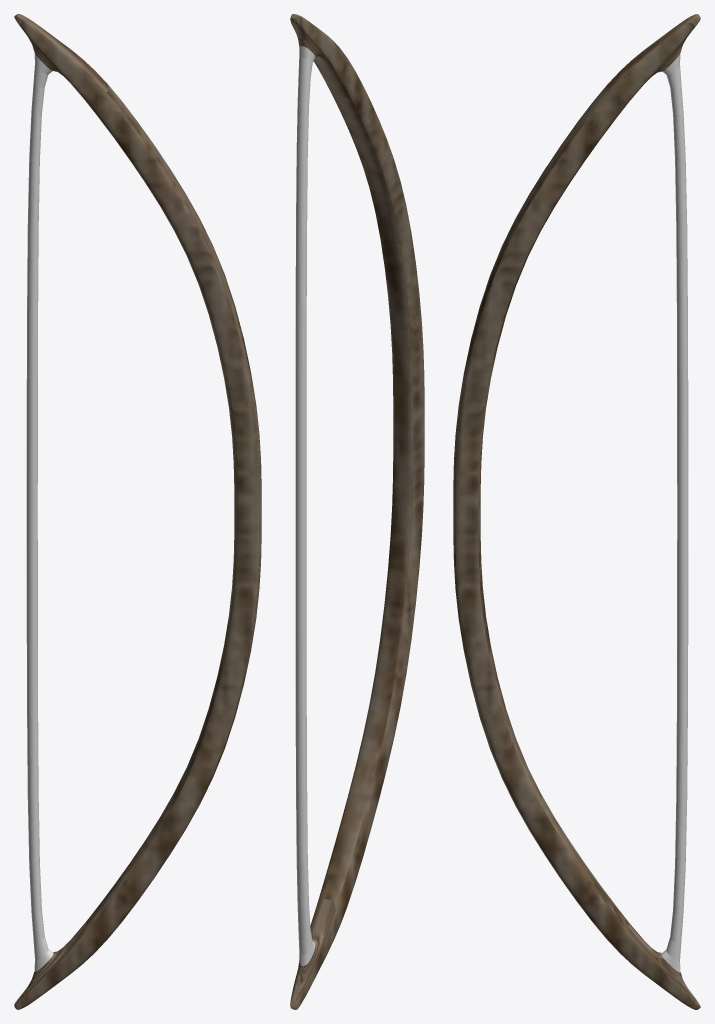
File: Bow.fbx
3 views of the same model, side by side, from view 1: azimuth 90°, elevation 25°; view 2: azimuth 150°, elevation 25°; view 3: azimuth 270°, elevation 25° (orthographic).
Parts seen in each view (by area): view 1: Bow, String; view 2: Bow, String; view 3: Bow, String.
Part boxes in pixels (x1,y1,x2,y2): Bow: (14,14,261,1009); String: (26,53,53,971); Bow: (290,14,424,1009); String: (295,45,315,965); Bow: (453,14,700,1009); String: (661,54,688,972).
Bounding box in the file's own units: 25.35 × 1014 × 229.
